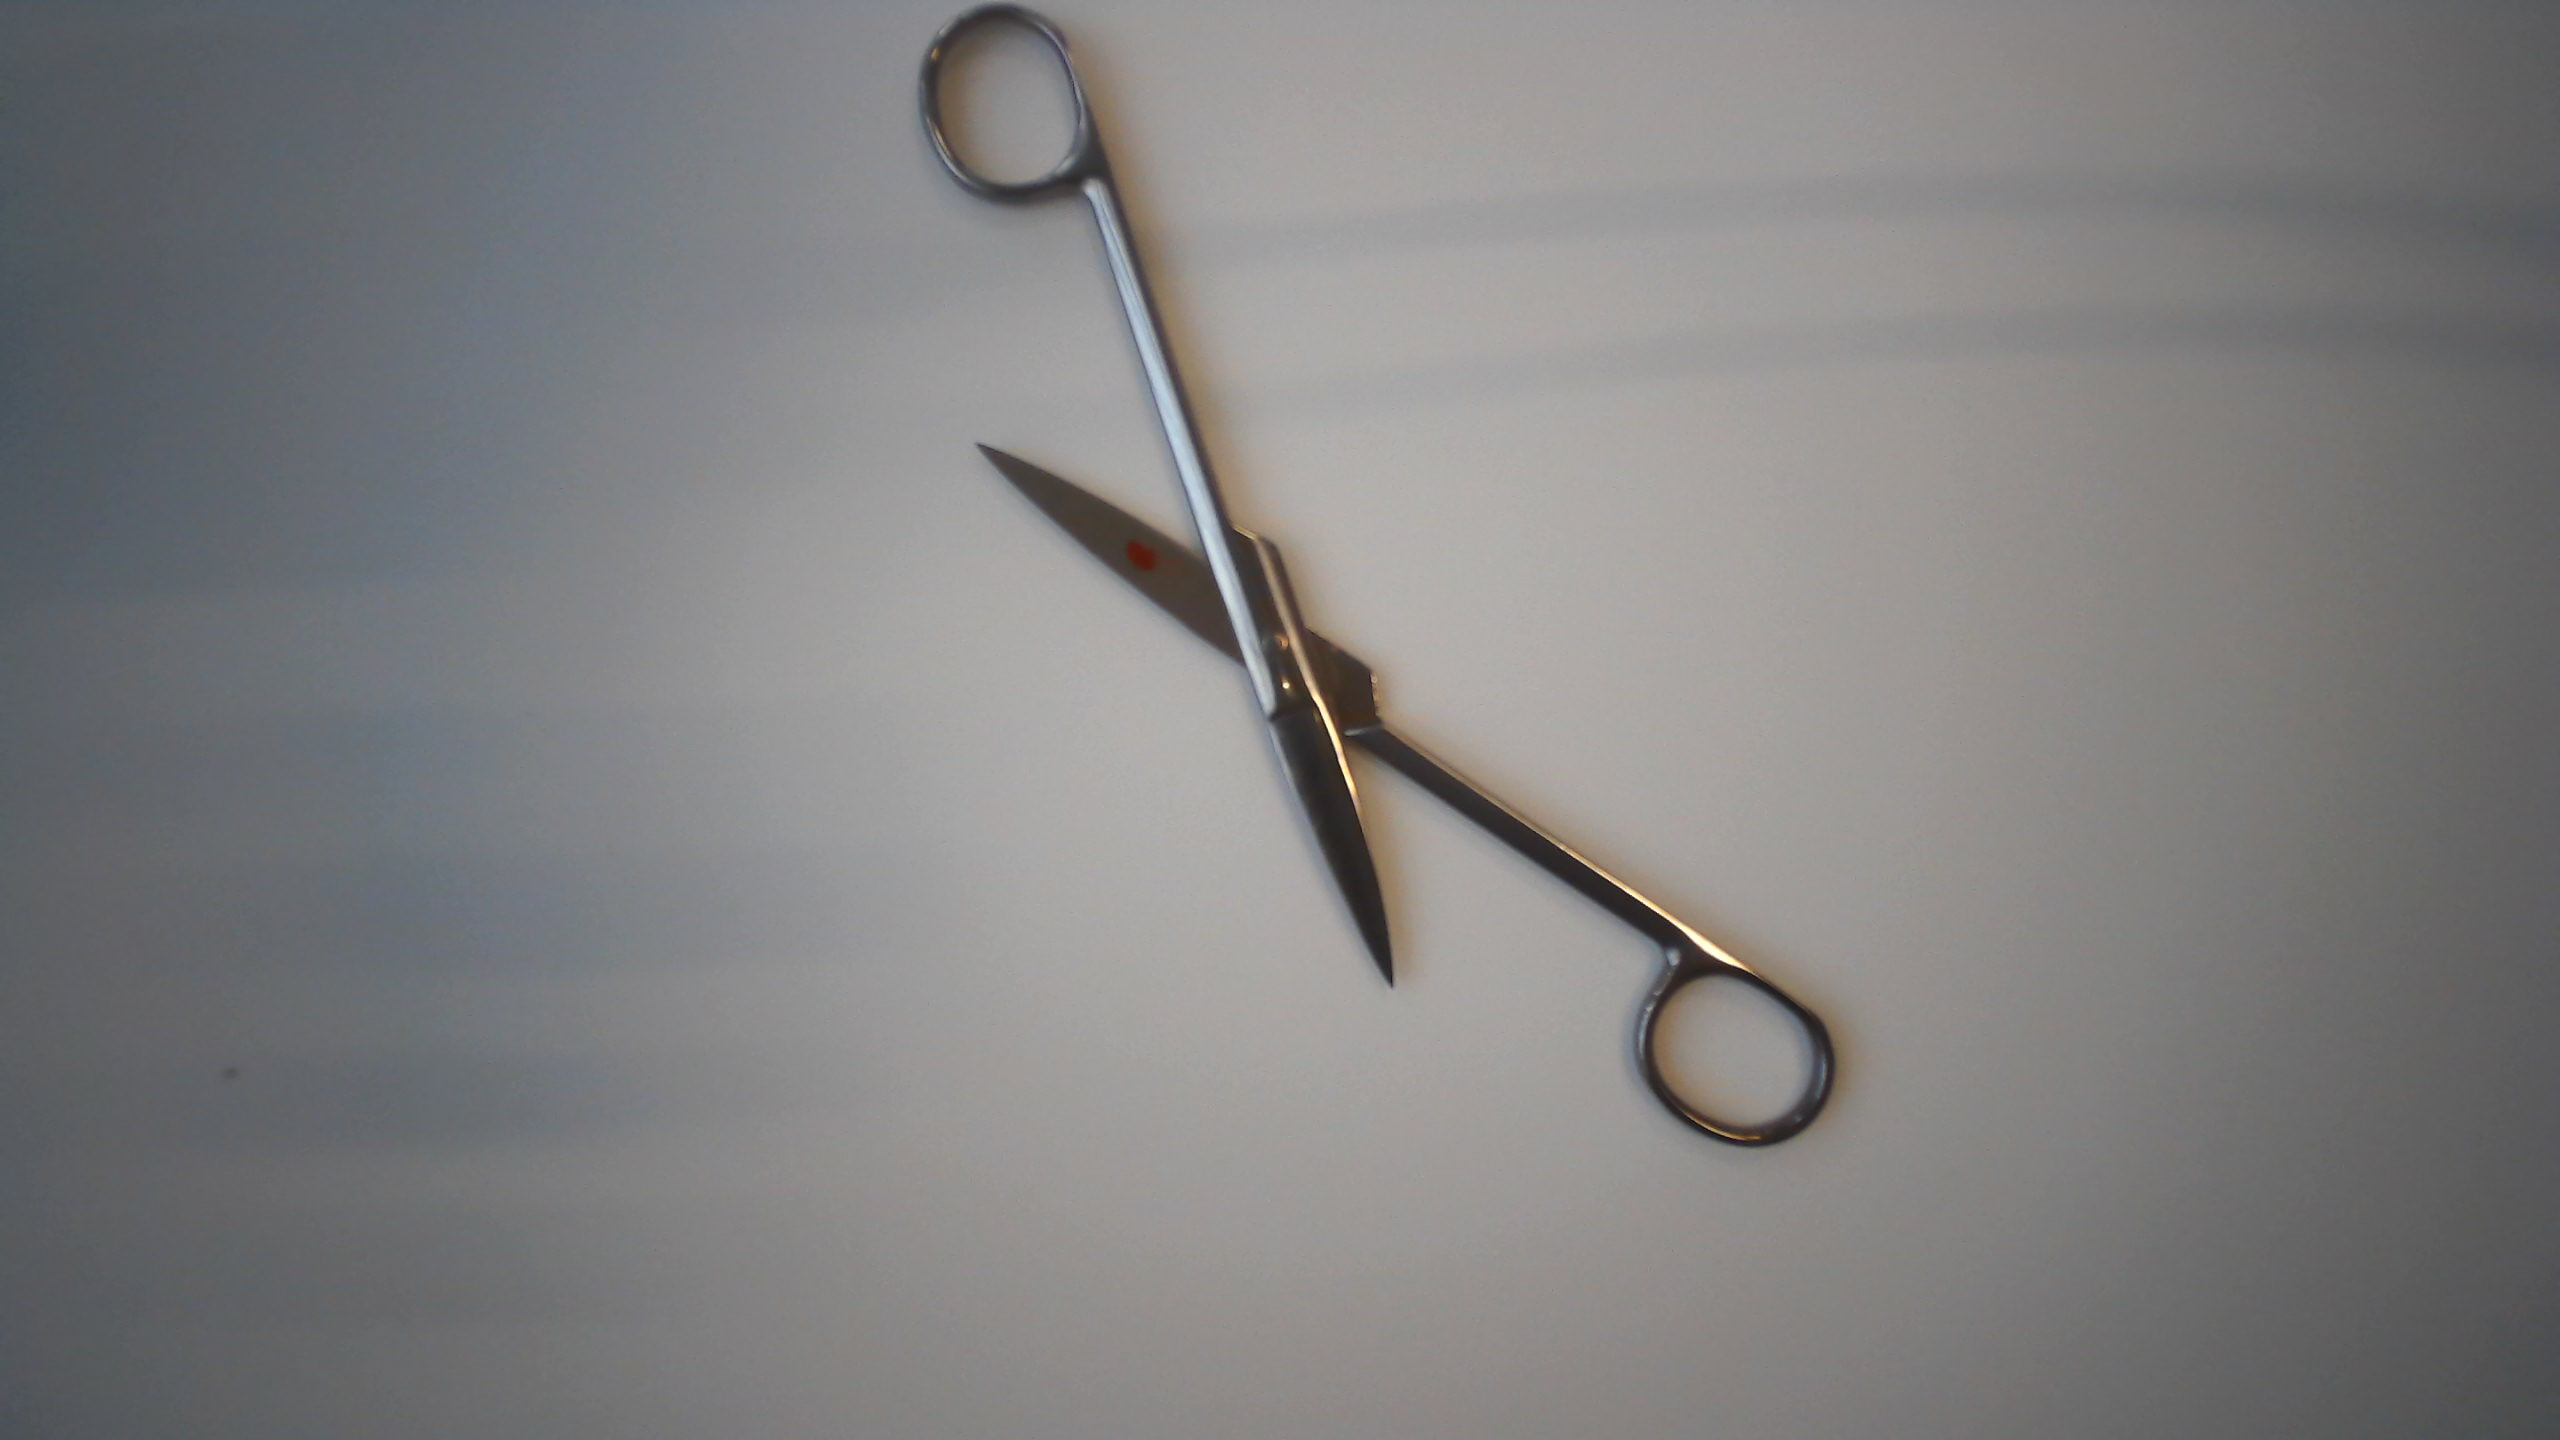Stain: (1118, 533, 1164, 584)
